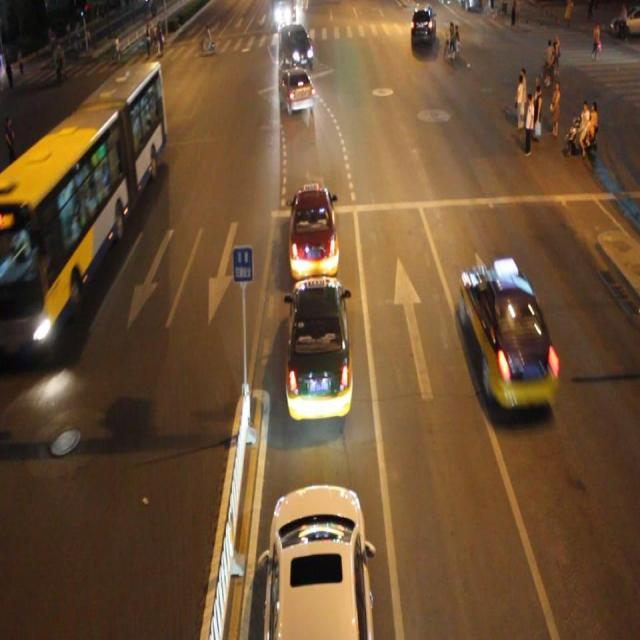car: (259, 479, 375, 640), (458, 268, 557, 410), (282, 274, 354, 422), (285, 182, 343, 280), (278, 67, 314, 113), (280, 23, 313, 68), (409, 1, 436, 46)
van: (1, 60, 164, 358)
